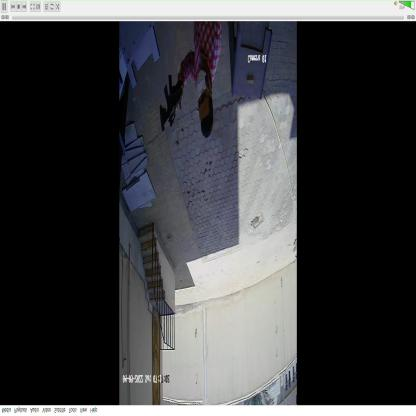handgun: (156, 61, 190, 136)
